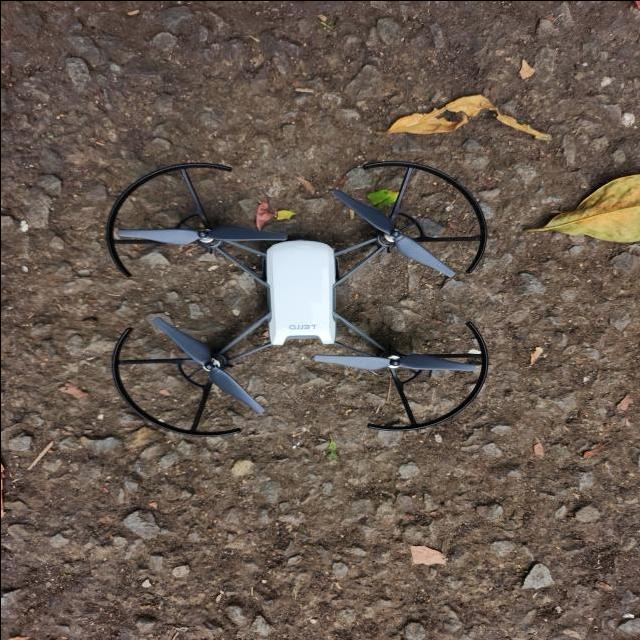drone: (94, 153, 494, 445)
